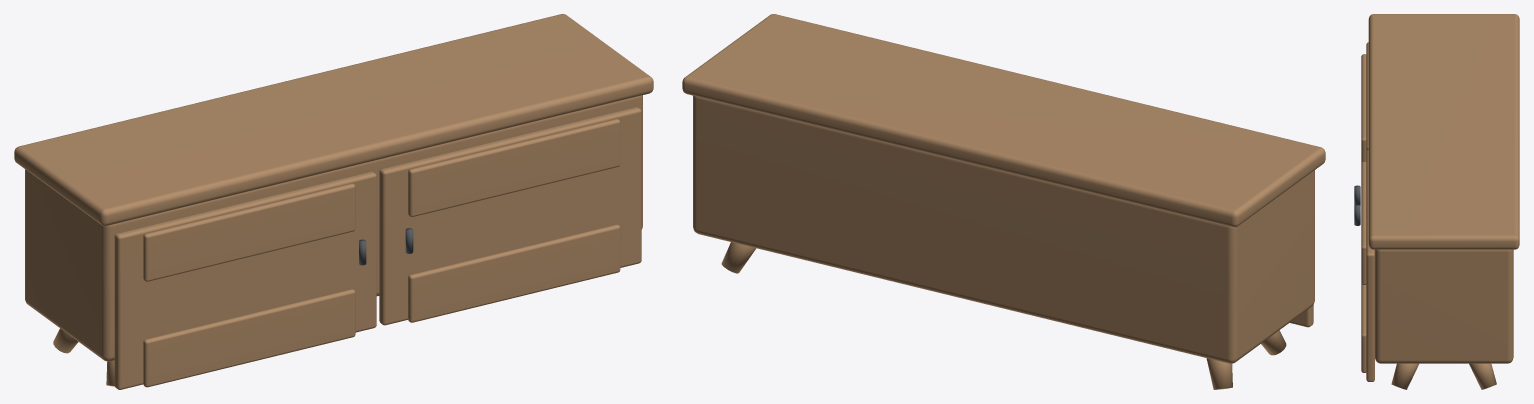
Rendered from atelier-tv-stand.glb.
3 views of the same model, side by side, from view 1: azimuth 30°, elevation 25°; view 2: azimuth 150°, elevation 25°; view 3: azimuth 270°, elevation 25° (orthographic). The views are drawn at different scales.
Visible parts, largest first — view 1: legs.178; view 2: legs.178; view 3: legs.178, metal.147.
Part boxes in pixels (left/top/right/bottom): legs.178: left=14, top=14, right=653, bottom=389; legs.178: left=682, top=14, right=1325, bottom=389; legs.178: left=1361, top=14, right=1519, bottom=389; metal.147: left=1354, top=185, right=1360, bottom=225.
Bounding box in the file's own units: 1.54 × 0.5293 × 0.4765.
